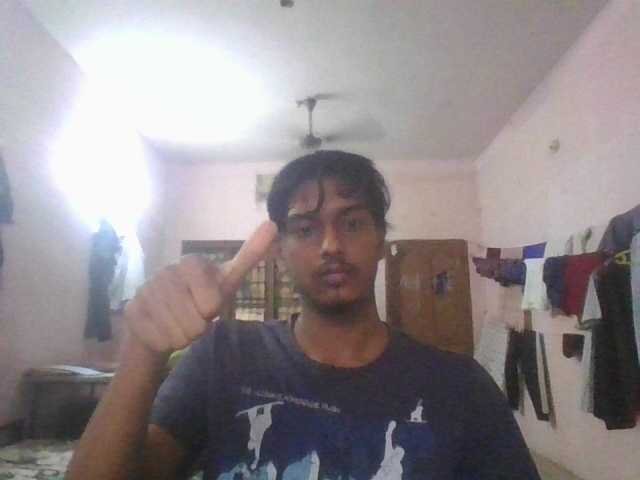thumbsup: (115, 217, 280, 367)
